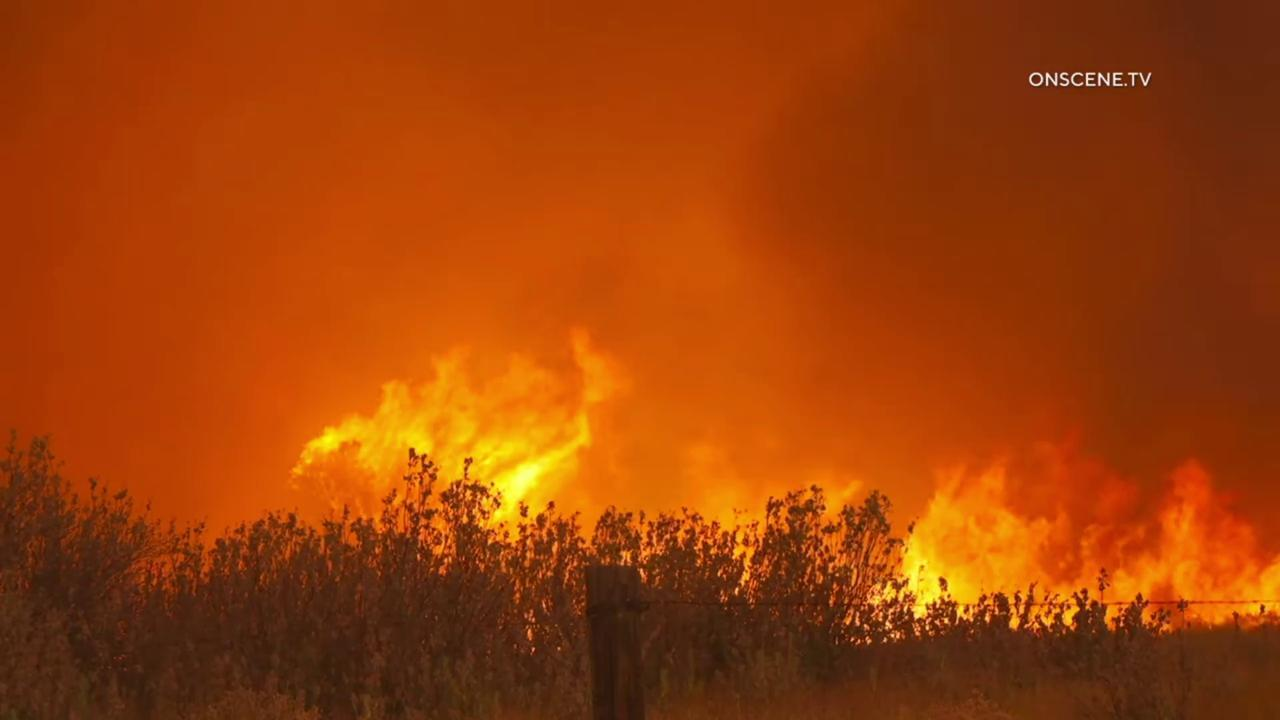fire: (838, 417, 1280, 651), (272, 318, 638, 575)
smoke: (0, 0, 1280, 673)
